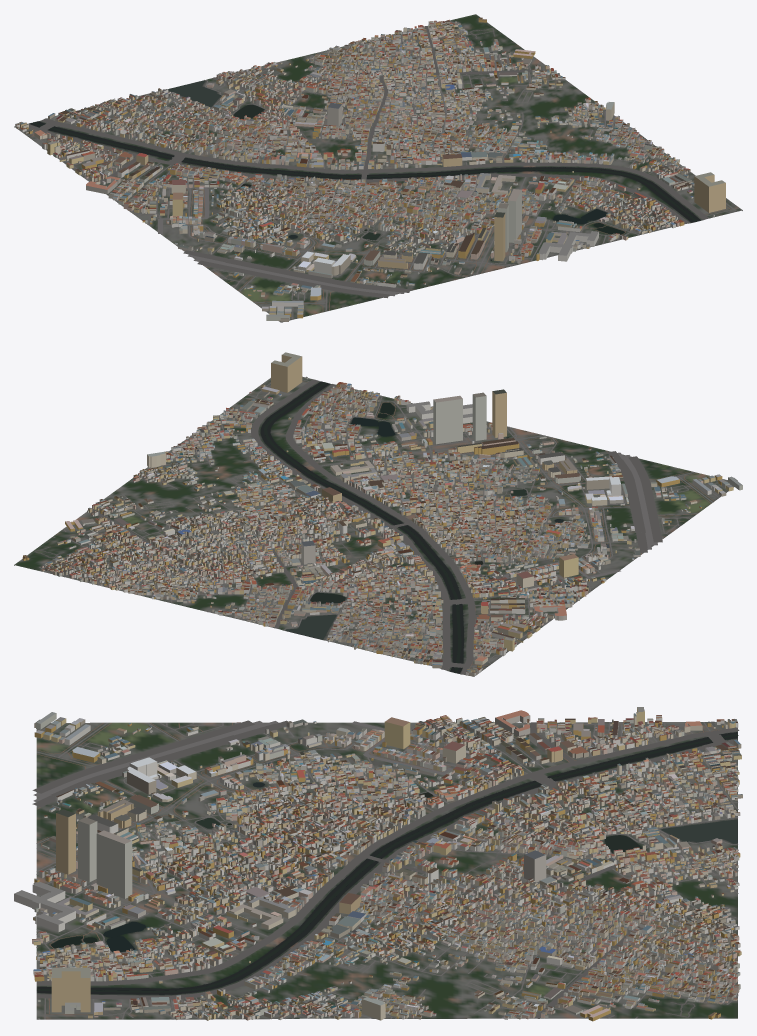
The picture shows the model from 3 angles, top to bottom: view 1: azimuth 30°, elevation 25°; view 2: azimuth 150°, elevation 25°; view 3: azimuth 270°, elevation 25°; orthographic projection. The views are drawn at different scales.
Visible parts, largest first — view 1: walls, roofs, ground, roads, water; view 2: walls, roofs, ground, roads, water; view 3: walls, roofs, ground, roads, water.
Part boxes in pixels (box(x1,y1,x2,y2)): walls: box(15, 18, 725, 321); roofs: box(16, 17, 725, 318); ground: box(14, 14, 742, 322); roads: box(25, 22, 741, 322); water: box(29, 80, 700, 260); walls: box(22, 355, 742, 676); roofs: box(23, 352, 741, 673); ground: box(14, 376, 734, 676); roads: box(35, 379, 727, 674); water: box(260, 381, 563, 673); walls: box(14, 708, 742, 1021); roofs: box(15, 707, 742, 1017); ground: box(36, 722, 737, 1019); roads: box(32, 720, 739, 1019); water: box(36, 732, 738, 994).
Bounding box in the file's own units: 1445 × 131 × 1457.
